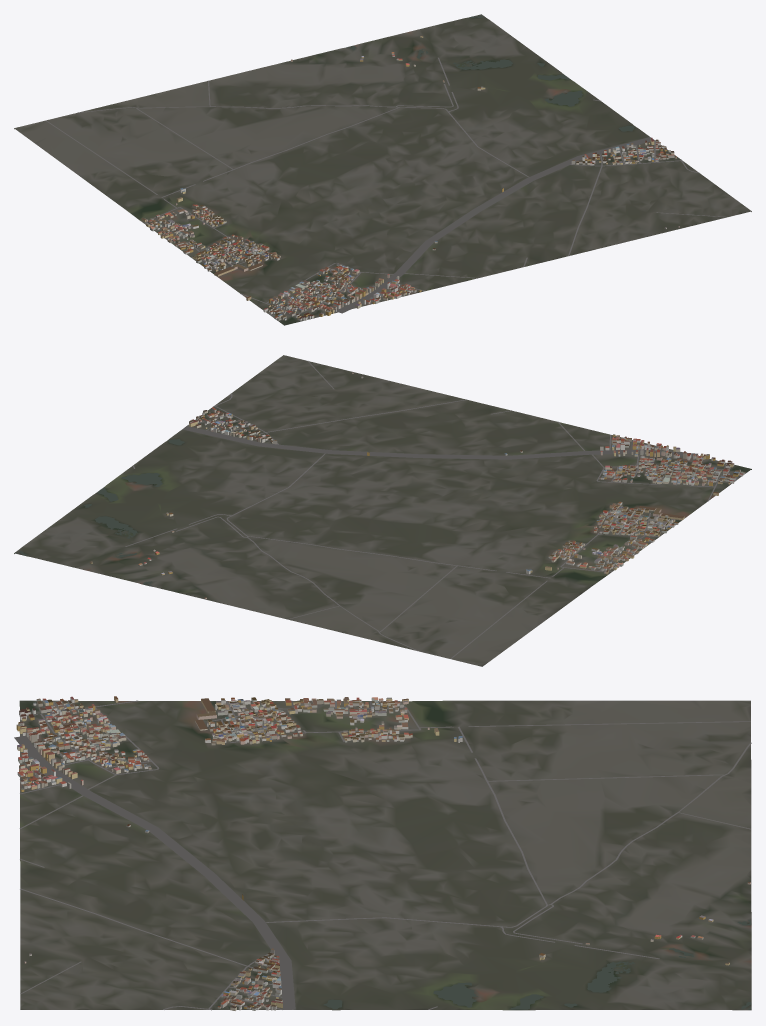
3 views of the same model, one above another, from view 1: azimuth 30°, elevation 25°; view 2: azimuth 150°, elevation 25°; view 3: azimuth 270°, elevation 25° (orthographic). The views are drawn at different scales.
Parts seen in each view (by area): view 1: ground, buildings, roads, water; view 2: ground, buildings, roads, water; view 3: ground, buildings, roads, water.
Part boxes in pixels (box(x1,y1,x2,y2)): ground: box(14, 14, 751, 325); buildings: box(141, 35, 679, 320); roads: box(45, 57, 727, 319); water: box(346, 14, 634, 131); ground: box(14, 355, 751, 666); buildings: box(89, 372, 745, 599); roads: box(125, 361, 737, 658); water: box(15, 438, 184, 585); ground: box(19, 700, 751, 1010); buildings: box(16, 696, 750, 1010); roads: box(14, 700, 751, 1010); water: box(323, 919, 751, 1009).
Size of the model in its own units: 1414 by 21.15 by 1415.
